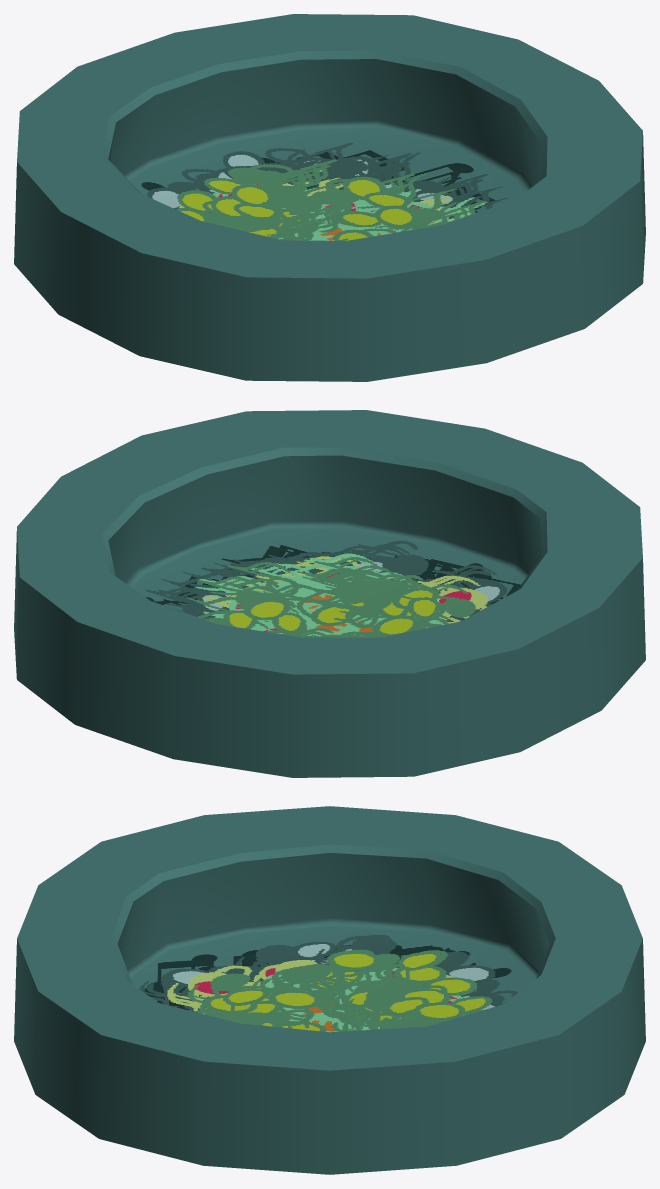
File: body.fbx
The picture shows the model from 3 angles, top to bottom: view 1: azimuth 30°, elevation 25°; view 2: azimuth 150°, elevation 25°; view 3: azimuth 270°, elevation 25°; orthographic projection.
Parts seen in each view (by area): view 1: polySurface1; view 2: polySurface1; view 3: polySurface1.
Part boxes in pixels (x1=…): polySurface1: x1=14, y1=14, x2=645, y2=381; polySurface1: x1=14, y1=410, x2=645, y2=777; polySurface1: x1=14, y1=806, x2=645, y2=1174.
Bounding box in the file's own units: 8.75 × 2.27 × 8.75.
Materials: 1 (1 with a texture image).
